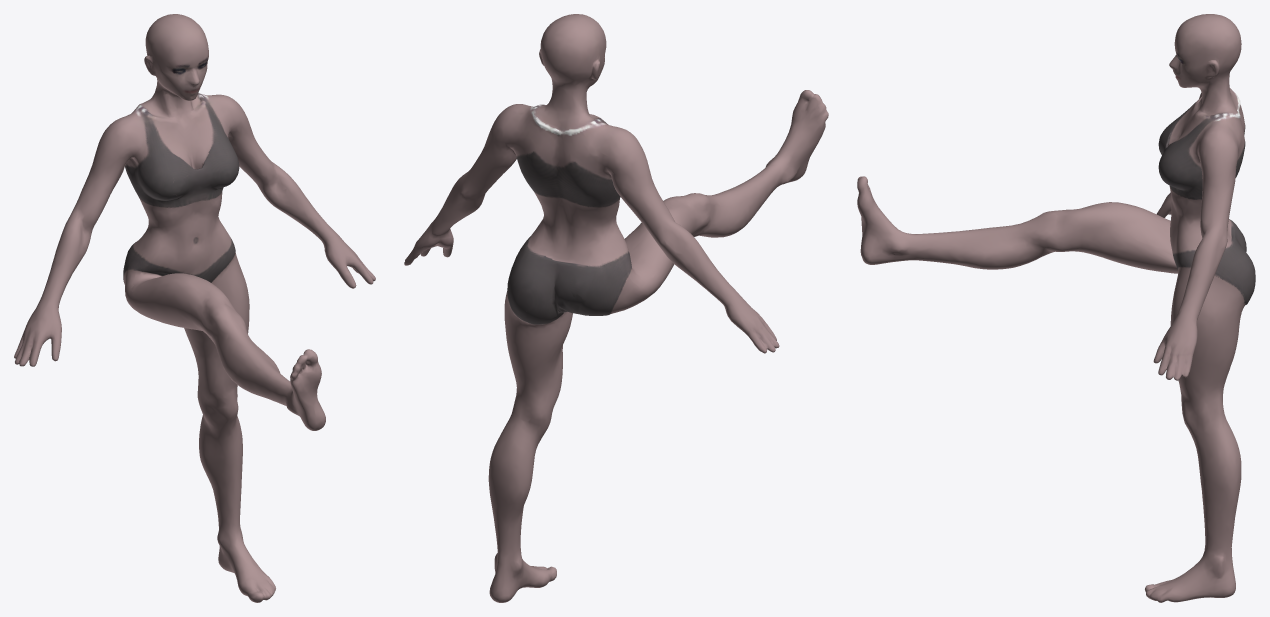
The model's file is 23-ThighL-90-child0-twist20-candidate.glb.
3 renders of one model, left to right at view 1: azimuth 30°, elevation 25°; view 2: azimuth 150°, elevation 25°; view 3: azimuth 270°, elevation 25°, orthographic. The views are drawn at different scales.
Visible parts, largest first — view 1: candidate; view 2: candidate; view 3: candidate.
Boxes of the visible parts, x1,y1,x2,y2 form: candidate: (14,14,375,602); candidate: (404,14,828,602); candidate: (857,14,1255,602).
Size of the model in its own units: 0.6509 by 1 by 0.653.
1 material, 1 textured.
